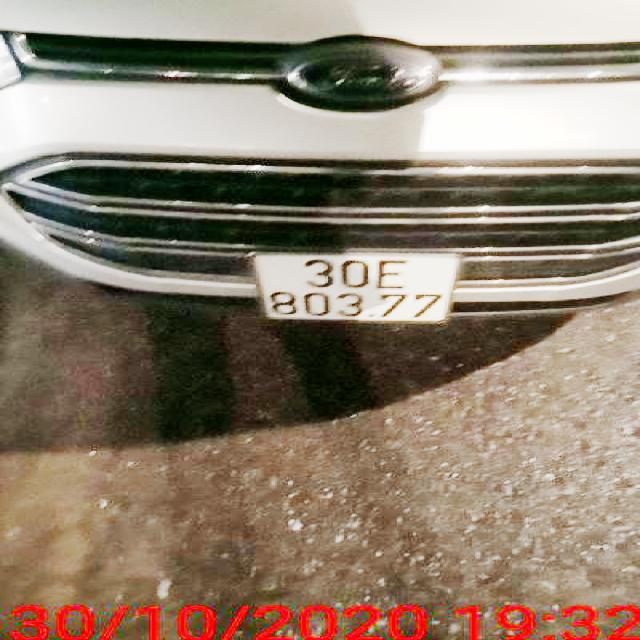license_plate: (254, 257, 460, 323)
